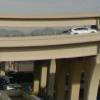Bridge: (3, 9, 100, 70)
